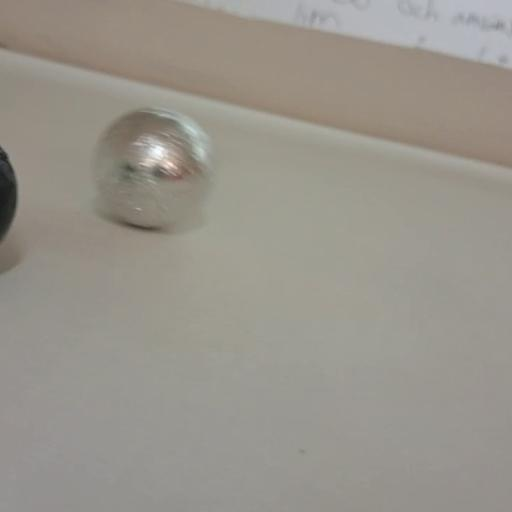alive: (86, 104, 218, 232)
dead: (0, 137, 19, 260)
